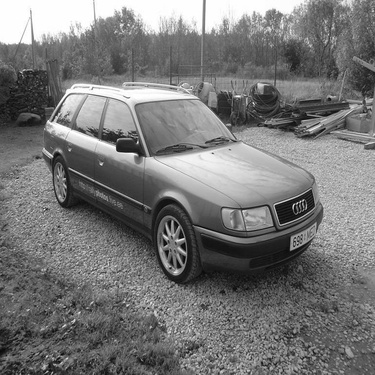car: (20, 69, 328, 285)
